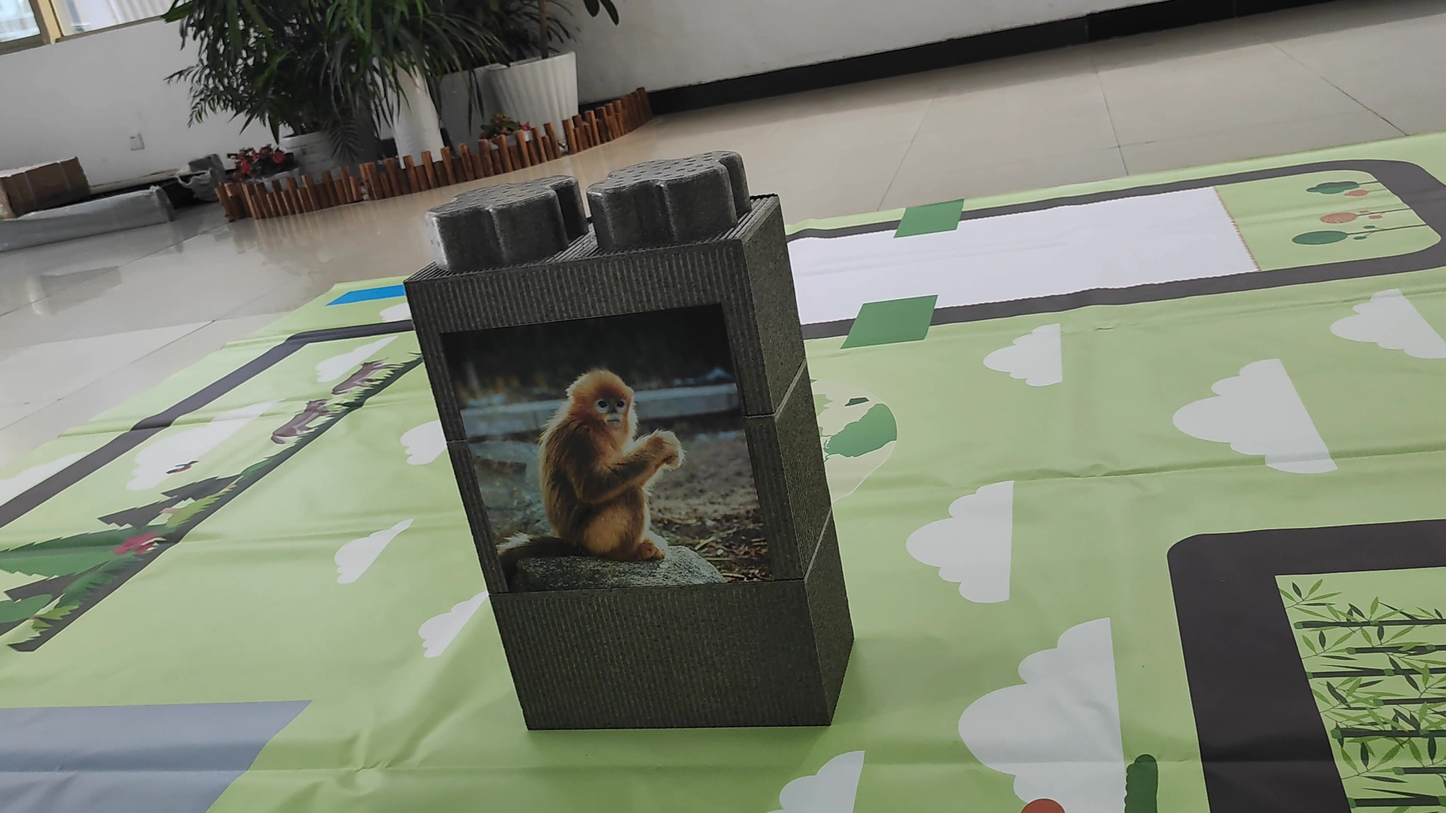monkey: (489, 352, 692, 581)
